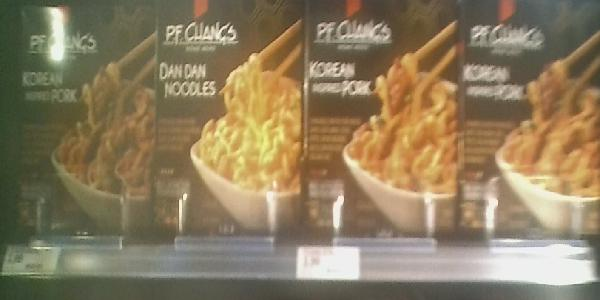pizza1: (305, 1, 462, 239), (154, 1, 307, 232), (11, 1, 154, 232), (463, 1, 599, 241)
